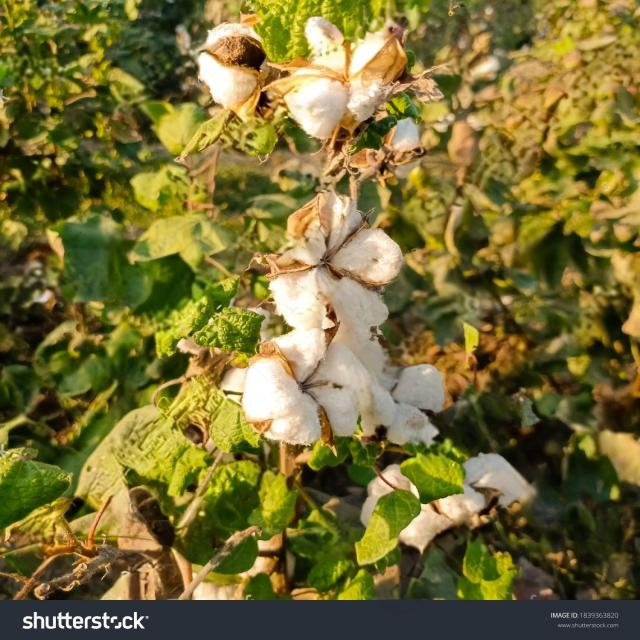Leaf: (253, 180, 415, 347), (266, 5, 426, 150), (341, 448, 543, 562), (220, 334, 381, 457), (342, 362, 467, 462), (189, 14, 280, 122)
